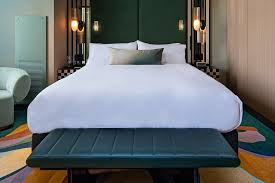bed-matress: (32, 42, 244, 134)
